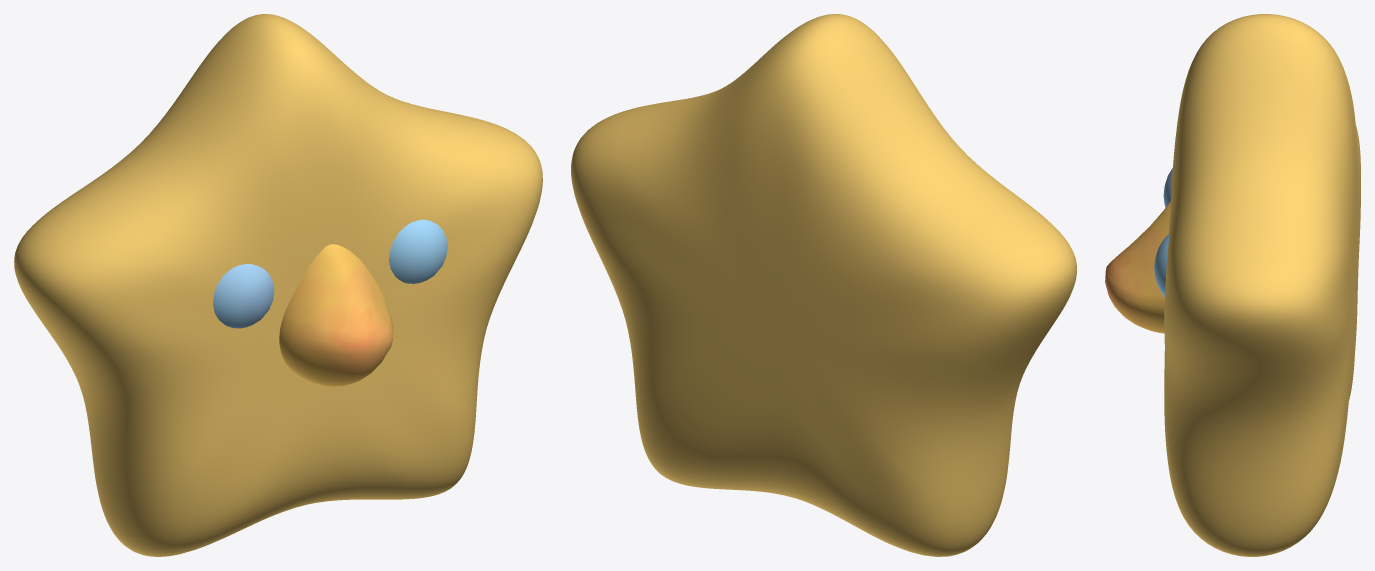
Rendered from guy_head.glb.
3 views of the same model, side by side, from view 1: azimuth 30°, elevation 25°; view 2: azimuth 150°, elevation 25°; view 3: azimuth 270°, elevation 25° (orthographic). The views are drawn at different scales.
Visible parts, largest first — view 1: Star, Sphere.002, Sphere.003, Sphere.004; view 2: Star; view 3: Star, Sphere.002, Sphere.004.
Part boxes in pixels (bbox=[...]): Star: bbox=[14, 14, 542, 556]; Sphere.002: bbox=[279, 244, 393, 386]; Sphere.003: bbox=[213, 264, 274, 328]; Sphere.004: bbox=[389, 219, 447, 283]; Star: bbox=[571, 14, 1076, 556]; Star: bbox=[1164, 14, 1360, 556]; Sphere.002: bbox=[1105, 201, 1170, 333]; Sphere.004: bbox=[1154, 234, 1169, 297].
Size of the model in its own units: 1.48 by 1.42 by 0.6942.
Materials: 4 (4 with a texture image).
